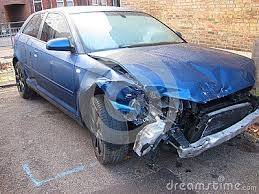Broken-glass: (120, 91, 171, 120)
Smashed: (92, 56, 259, 162)
